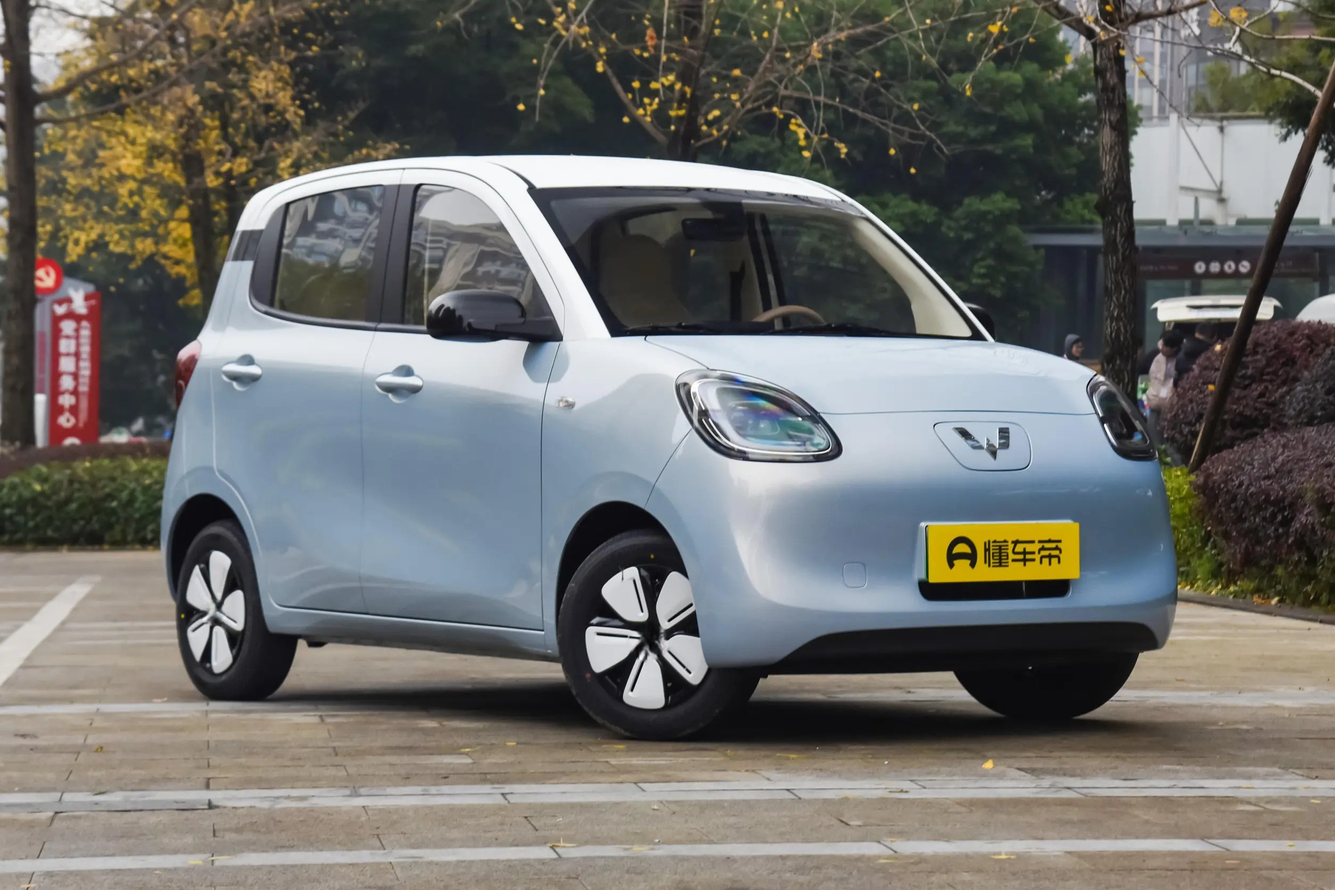SGMW: (952, 427, 1009, 460)
